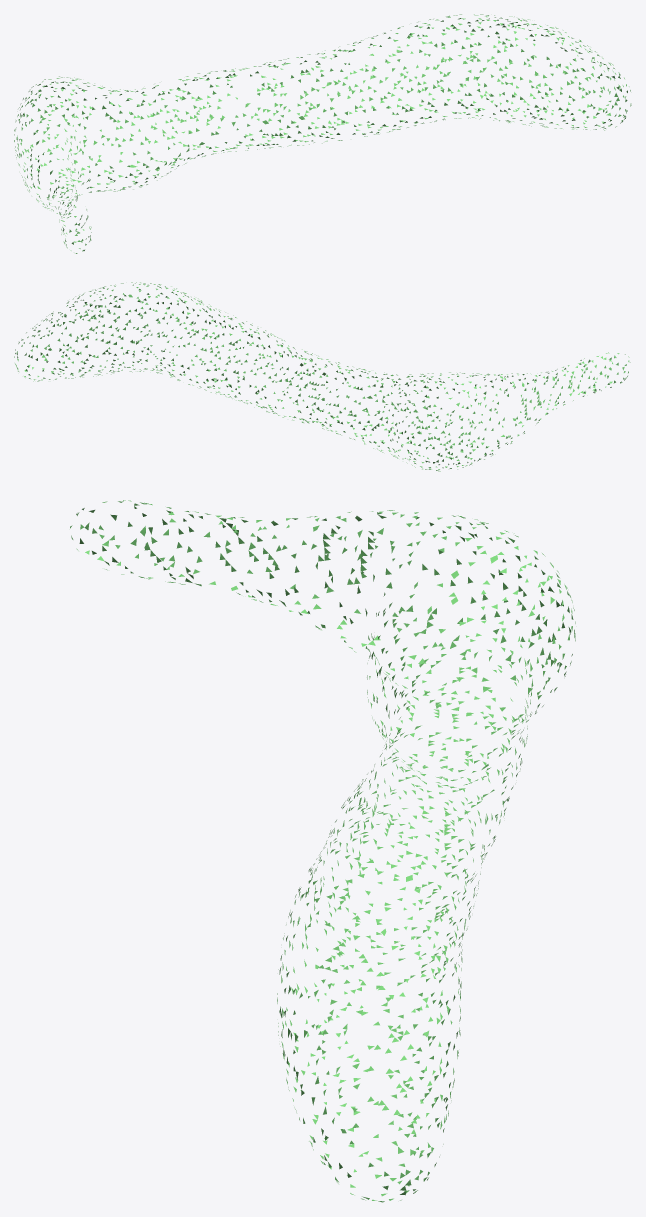
Rendered from morph_017.glb.
3 views of the same model, one above another, from view 1: azimuth 30°, elevation 25°; view 2: azimuth 150°, elevation 25°; view 3: azimuth 270°, elevation 25° (orthographic). The views are drawn at different scales.
Size of the model in its own units: 123 by 27.03 by 49.97.
